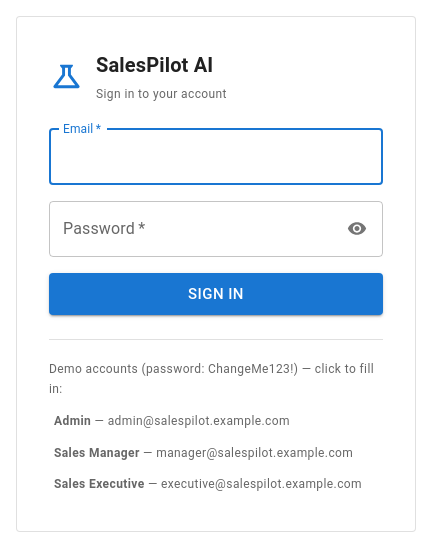
it: Login page › fills in a demo account email/password when a demo account button is clicked
What coordinates should you click on to do the following:
click the button "Admin — admin@salespilot.example.com"
I would click on:
 (216, 422)
Its box is [49, 408, 383, 436].
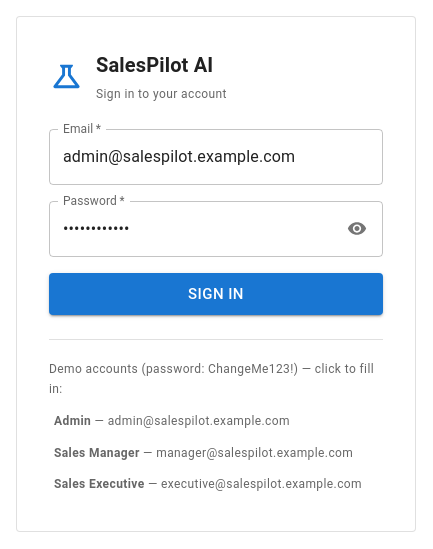
Result: the field named "Email address" holds "admin@salespilot.example.com" at [49, 129, 383, 185]
